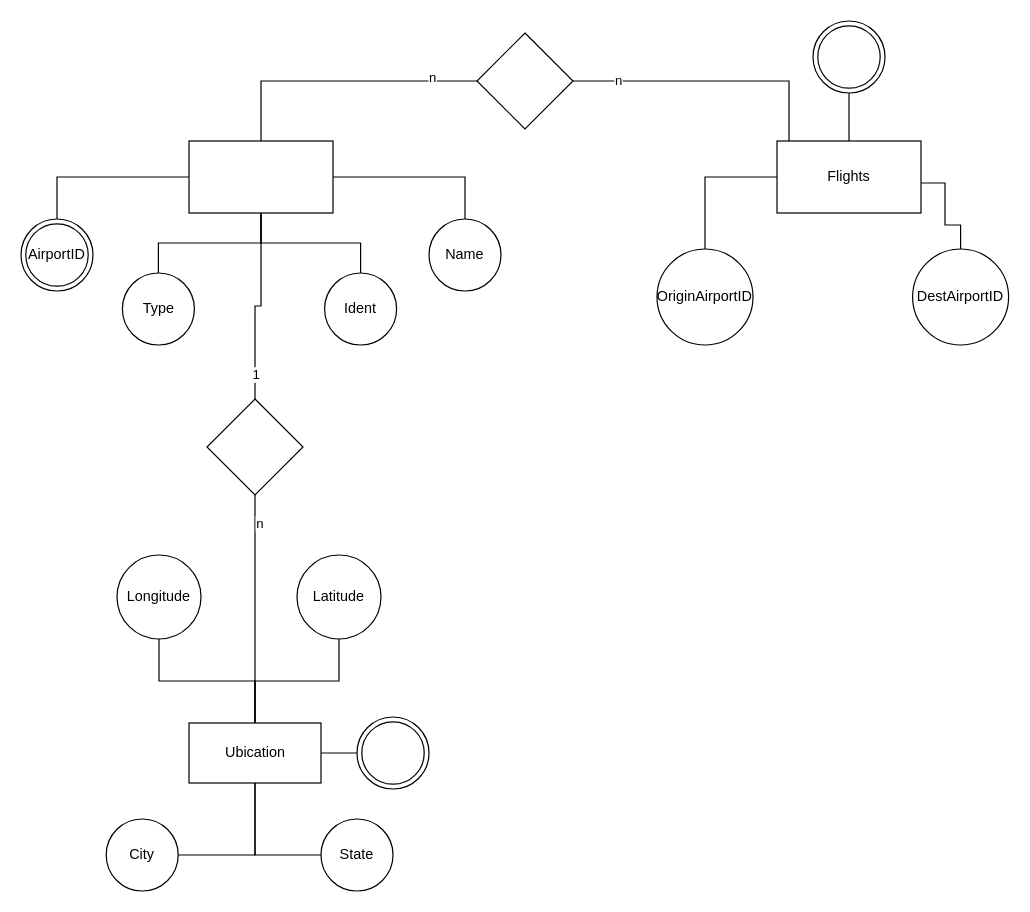
This 1030x912 diagram has some shape labels left out. Here are the shapes that lost their labels. From the top down, the centre of each, then its label:
At (x=848, y=56): "ID".
At (x=524, y=80): "ha tenido".
At (x=260, y=176): "Airports".
At (x=254, y=446): "ubicado".
At (x=392, y=752): "3 Char Code".
